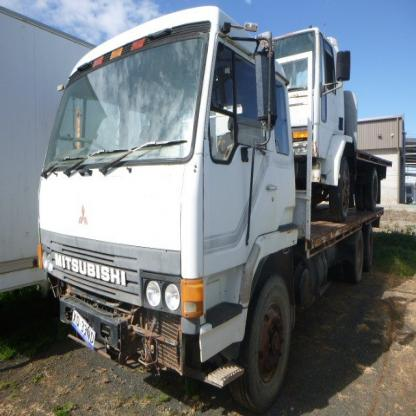truck: (37, 5, 387, 413)
